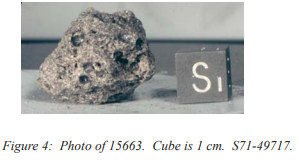Basalt: (15, 12, 164, 93)
